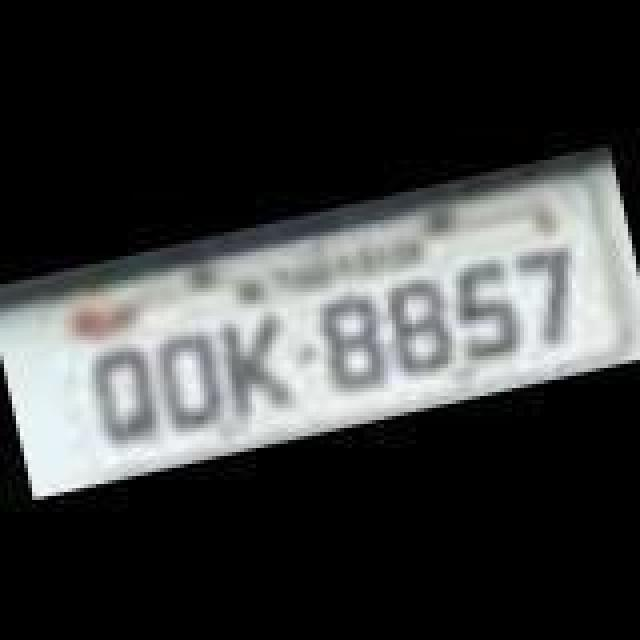5: (444, 254, 532, 370)
7: (506, 238, 590, 346)
8: (310, 284, 394, 396), (376, 268, 456, 380)
K: (212, 310, 300, 426)
O: (148, 320, 236, 440)
Q: (88, 334, 168, 450)
